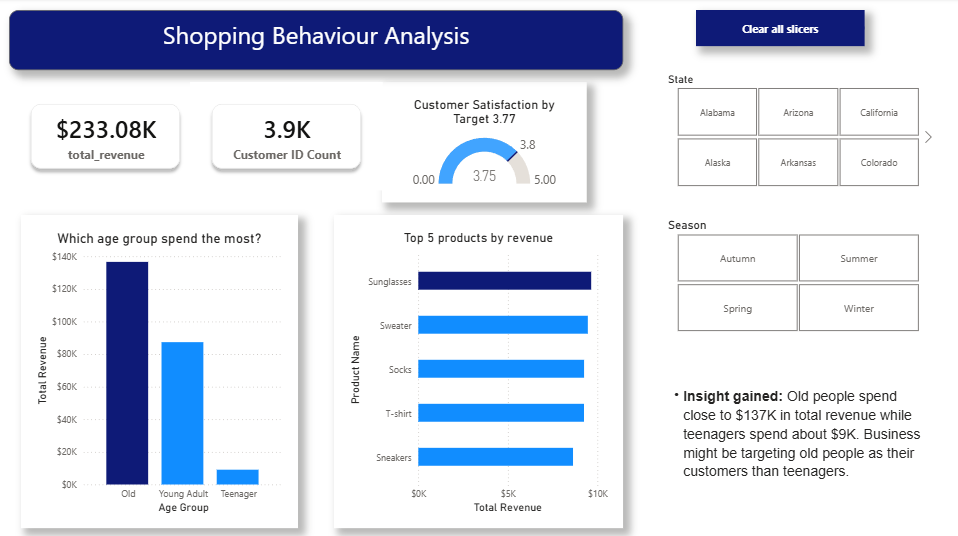

Layout of this report page (visuals, bound fields, positions):
{"tool":"powerbi","page":{"name":"Executive Overview","canvas":[1280,720],"ordinal":0},"visuals":[{"type":"cardVisual","fields":{"Data":["sales_fact.total"]},"box":[16,112,256,144],"z":0},{"type":"gauge","title":"Customer Satisfaction by Target 3.77","fields":{"TargetValue":["sales_fact.target_rating"],"Y":["sales_fact.avg_rating"]},"box":[512,112,272,160],"z":1000},{"type":"clusteredBarChart","title":"Top 5 products by revenue","fields":{"Category":["product_dim.product_name"],"Y":["sales_fact.total_revenue"]},"box":[448,288,384,416],"z":2000},{"type":"clusteredColumnChart","title":"Which age group spend the most?","fields":{"Category":["customer_dim.age_group"],"Y":["sales_fact.total"]},"box":[32,288,368,416],"z":3000},{"type":"textbox","box":[16,16,816,80],"z":4000},{"type":"slicer","fields":{"Values":["customer_dim.state_name"]},"box":[864,80,400,192],"z":5000},{"type":"actionButton","box":[928,16,224,48],"z":6000},{"type":"slicer","fields":{"Values":["season_dim.season"]},"box":[864,272,400,192],"z":7000},{"type":"textbox","box":[864,496,400,176],"z":8000},{"type":"cardVisual","fields":{"Data":["CountNonNull(customer_dim.customer_id)"]},"box":[256,112,256,144],"z":9000}]}

Visuals, with their boxes in screenshot pixels (x1, y1, x2, y2), scaled from the page's 1280x720 canvas onto the 958x536 screenshot:
cardVisual - sales_fact.total: (12,83,204,191)
"Customer Satisfaction by Target 3.77" gauge: (383,83,587,202)
"Top 5 products by revenue" clusteredBarChart: (335,214,623,524)
"Which age group spend the most?" clusteredColumnChart: (24,214,299,524)
textbox: (12,12,623,71)
slicer - customer_dim.state_name: (647,60,946,202)
actionButton: (695,12,862,48)
slicer - season_dim.season: (647,202,946,345)
textbox: (647,369,946,500)
cardVisual - CountNonNull(customer_dim.customer_id): (192,83,383,191)
